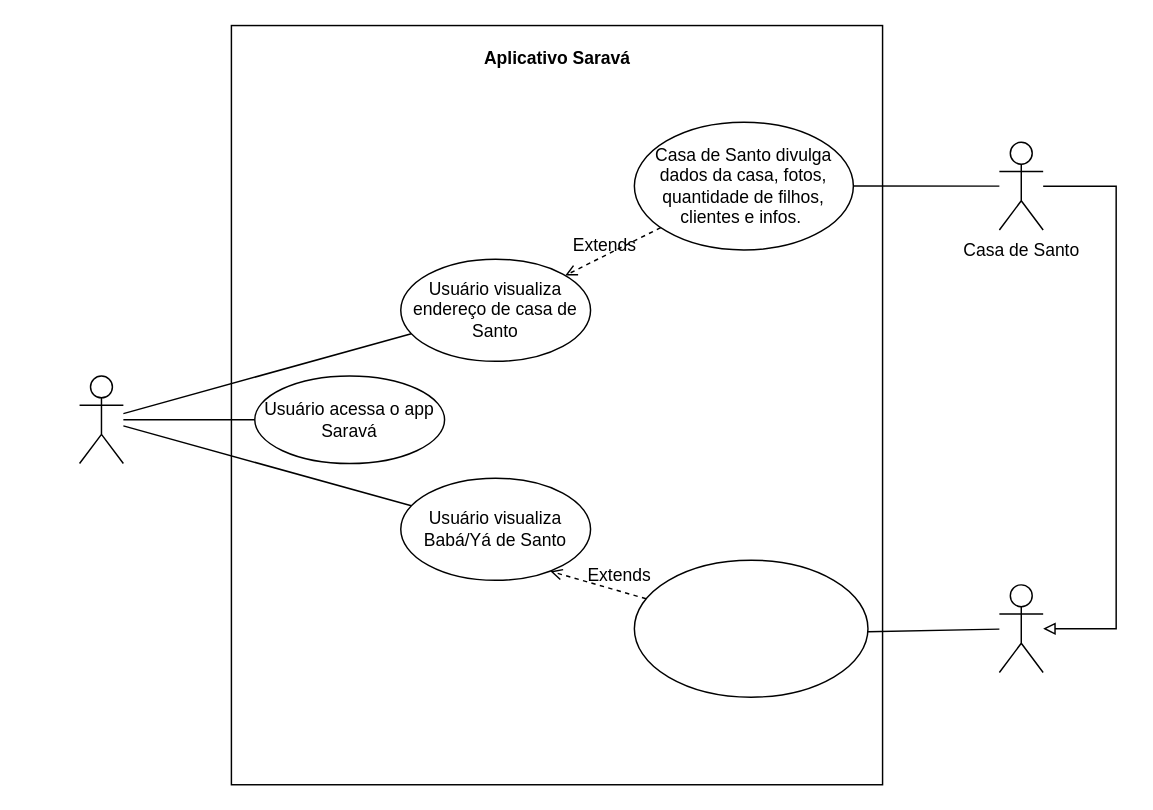
The diagram is 1153 pixels wide and 810 high, and some of its shapes have lost their labels. The centre of each missing label's shape, as x and y in pixels:
"Babá/Yá" belongs at (1020,627).
"Babá/Yá de Santo divulga, fotos, quantidade de clientes e infos." belongs at (750,628).
"Usuário não logado" belongs at (100,419).
